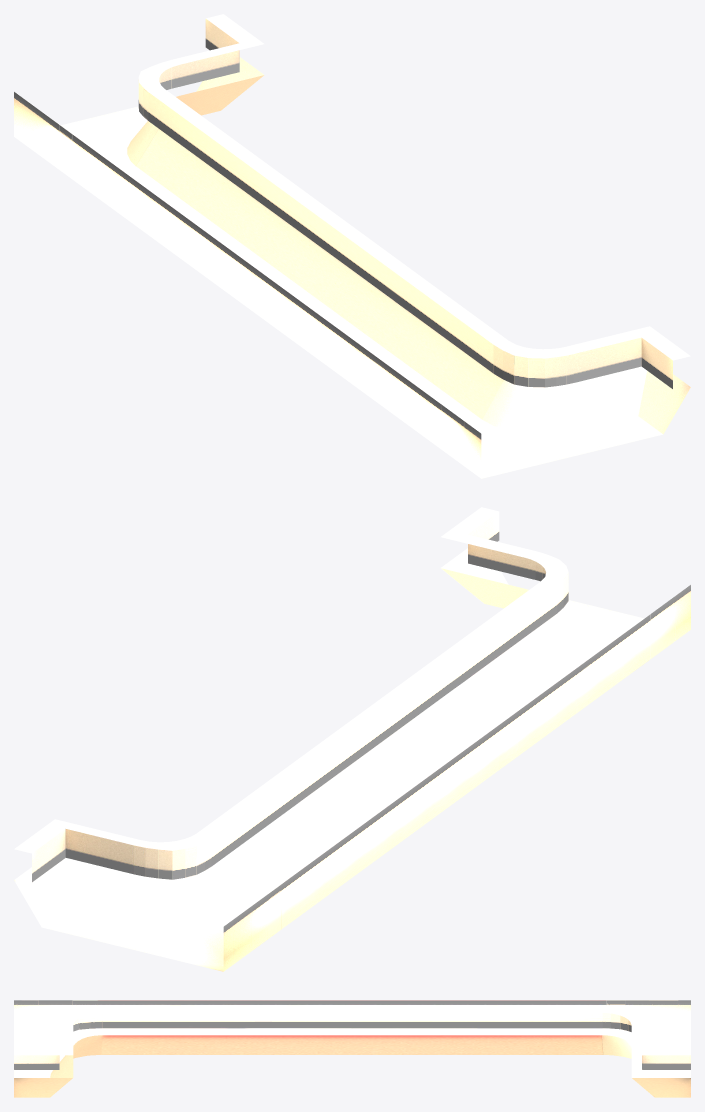
3 views of the same model, one above another, from view 1: azimuth 30°, elevation 25°; view 2: azimuth 150°, elevation 25°; view 3: azimuth 270°, elevation 25° (orthographic). The views are drawn at different scales.
Parts seen in each view (by area): view 1: 室内-缓台; view 2: 室内-缓台; view 3: 室内-缓台.
Boxes of the visible parts, x1,y1,x2,y2 form: 室内-缓台: [14, 14, 690, 478]; 室内-缓台: [14, 507, 690, 971]; 室内-缓台: [14, 1000, 690, 1097].
Bounding box in the file's own units: 5.9 × 1.93 × 22.8.
